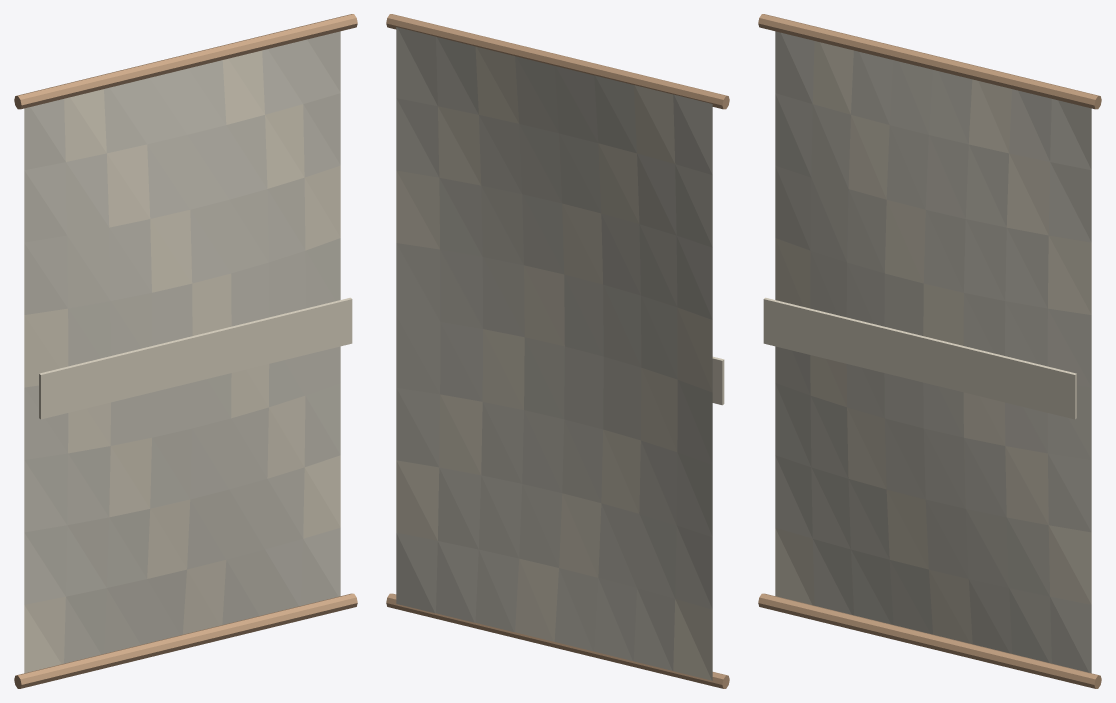
Rendered from vela.glb.
The picture shows the model from 3 angles, left to right: view 1: azimuth 30°, elevation 25°; view 2: azimuth 150°, elevation 25°; view 3: azimuth 330°, elevation 25°; orthographic projection.
Visible parts, largest first — view 1: vela; view 2: vela; view 3: vela.
Part boxes in pixels (left/top/right/bottom): vela: left=14, top=14, right=357, bottom=688; vela: left=386, top=14, right=729, bottom=688; vela: left=758, top=14, right=1101, bottom=688.
Size of the model in its own units: 3.4 by 5.73 by 0.252.
